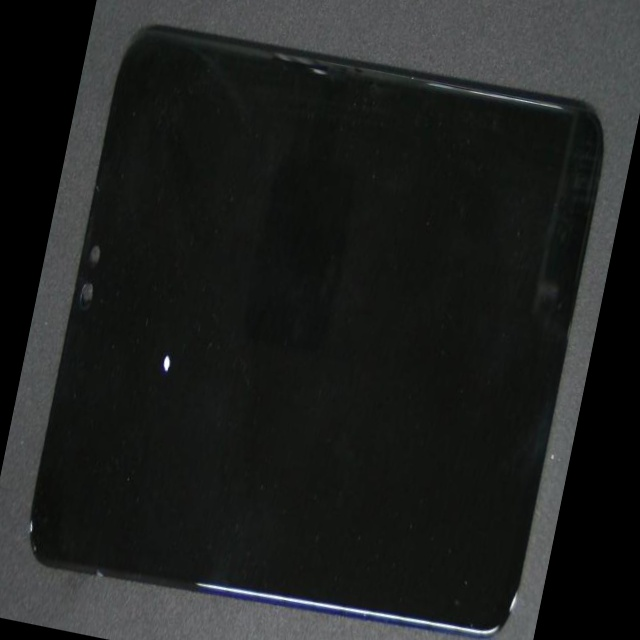stain: (67, 63, 279, 554)
